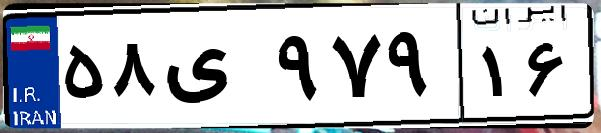1: (475, 38, 525, 113)
5: (57, 26, 110, 100)
6: (525, 38, 570, 115)
7: (330, 28, 385, 110)
8: (110, 28, 158, 98)
9: (270, 28, 330, 110), (385, 28, 445, 110)
ی: (158, 20, 270, 120)
